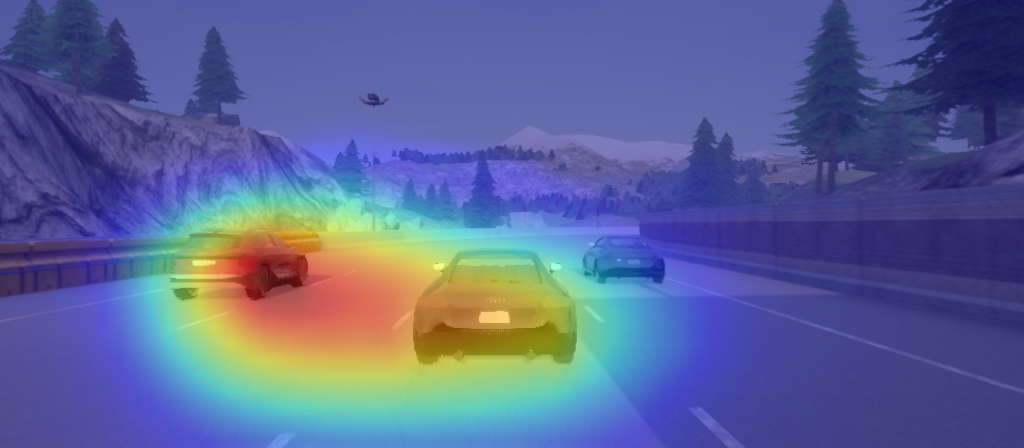Barrier: (697, 205, 1010, 268), (5, 237, 163, 280)
Car: (410, 245, 582, 371), (167, 225, 311, 305), (579, 232, 673, 292)
Lane Marker: (682, 397, 745, 448), (175, 307, 234, 337), (577, 297, 606, 326), (263, 428, 298, 448), (311, 273, 333, 288), (337, 266, 359, 278)
Light Pole: (355, 85, 392, 231)
